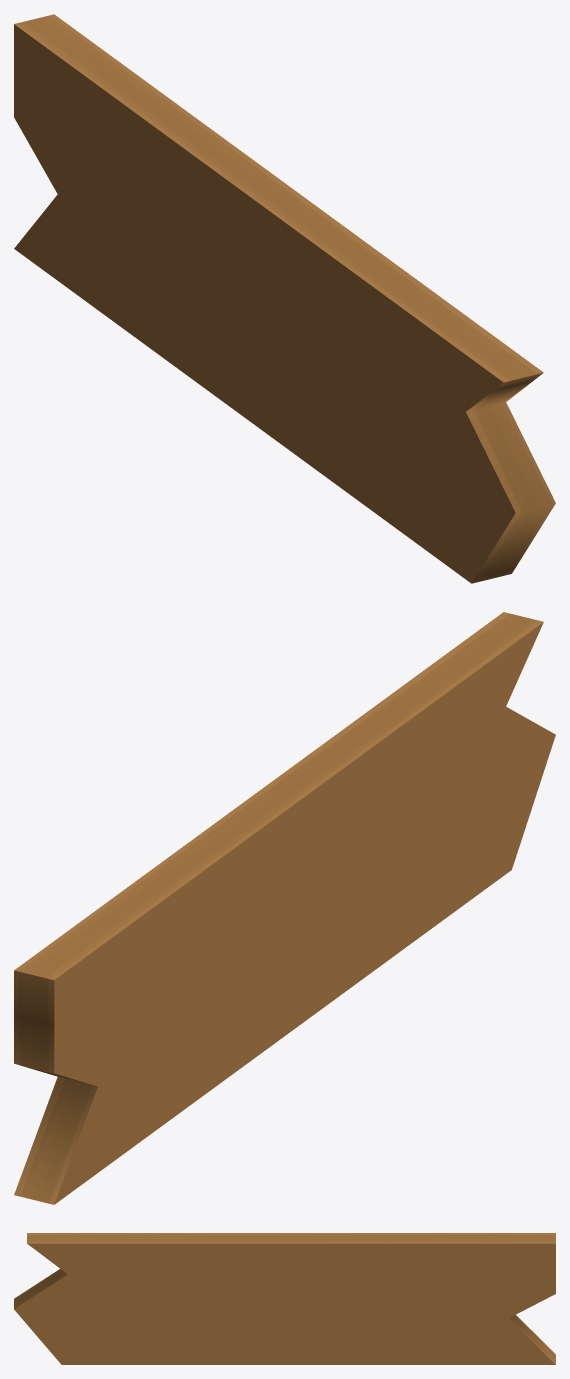
File: hahen_1.fbx
The picture shows the model from 3 angles, top to bottom: view 1: azimuth 30°, elevation 25°; view 2: azimuth 150°, elevation 25°; view 3: azimuth 270°, elevation 25°; orthographic projection. The views are drawn at different scales.
Parts seen in each view (by area): view 1: Hahen_1; view 2: Hahen_1; view 3: Hahen_1.
Boxes of the visible parts, x1=… form: Hahen_1: x1=14, y1=14, x2=555, y2=583; Hahen_1: x1=14, y1=612, x2=555, y2=1204; Hahen_1: x1=14, y1=1233, x2=555, y2=1364.
Bounding box in the file's own units: 0.5356 × 2.86 × 11.56.
